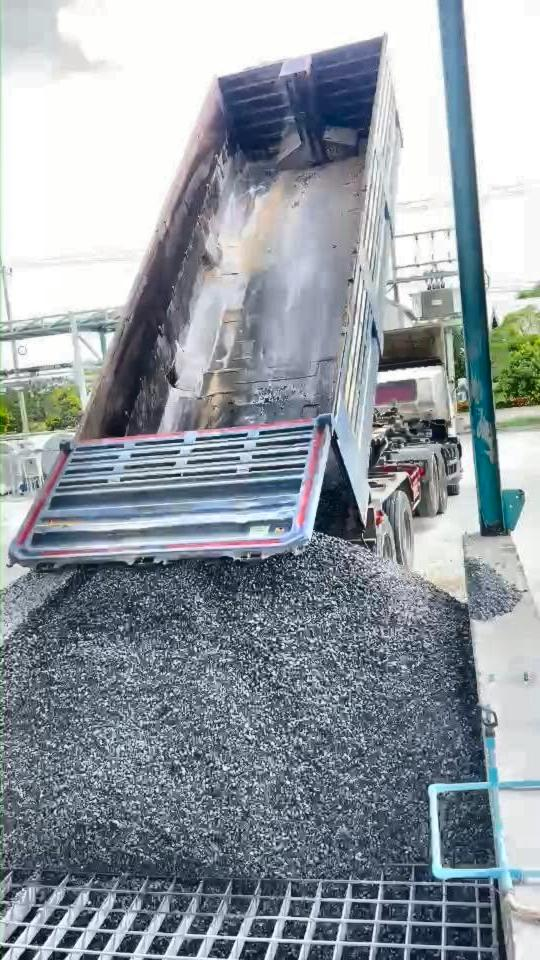gravel: (5, 537, 483, 876), (3, 570, 72, 639), (466, 558, 521, 620), (446, 796, 491, 862)
